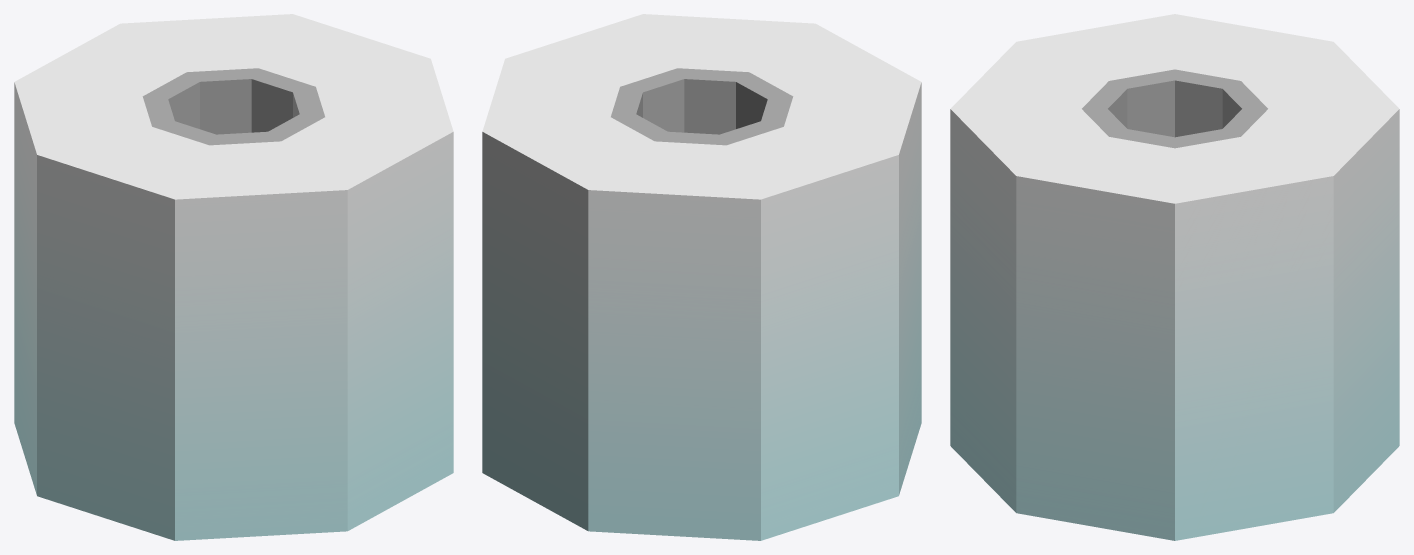
Rendered from roll_toilet.fbx.
3 renders of one model, left to right at view 1: azimuth 30°, elevation 25°; view 2: azimuth 150°, elevation 25°; view 3: azimuth 270°, elevation 25°, orthographic.
Visible parts, largest first — view 1: roll_toilet; view 2: roll_toilet; view 3: roll_toilet.
Part boxes in pixels (x1,y1,x2,y2): roll_toilet: [14, 14, 453, 540]; roll_toilet: [482, 14, 921, 540]; roll_toilet: [950, 14, 1399, 540].
Bounding box in the file's own units: 186 × 154 × 186.
